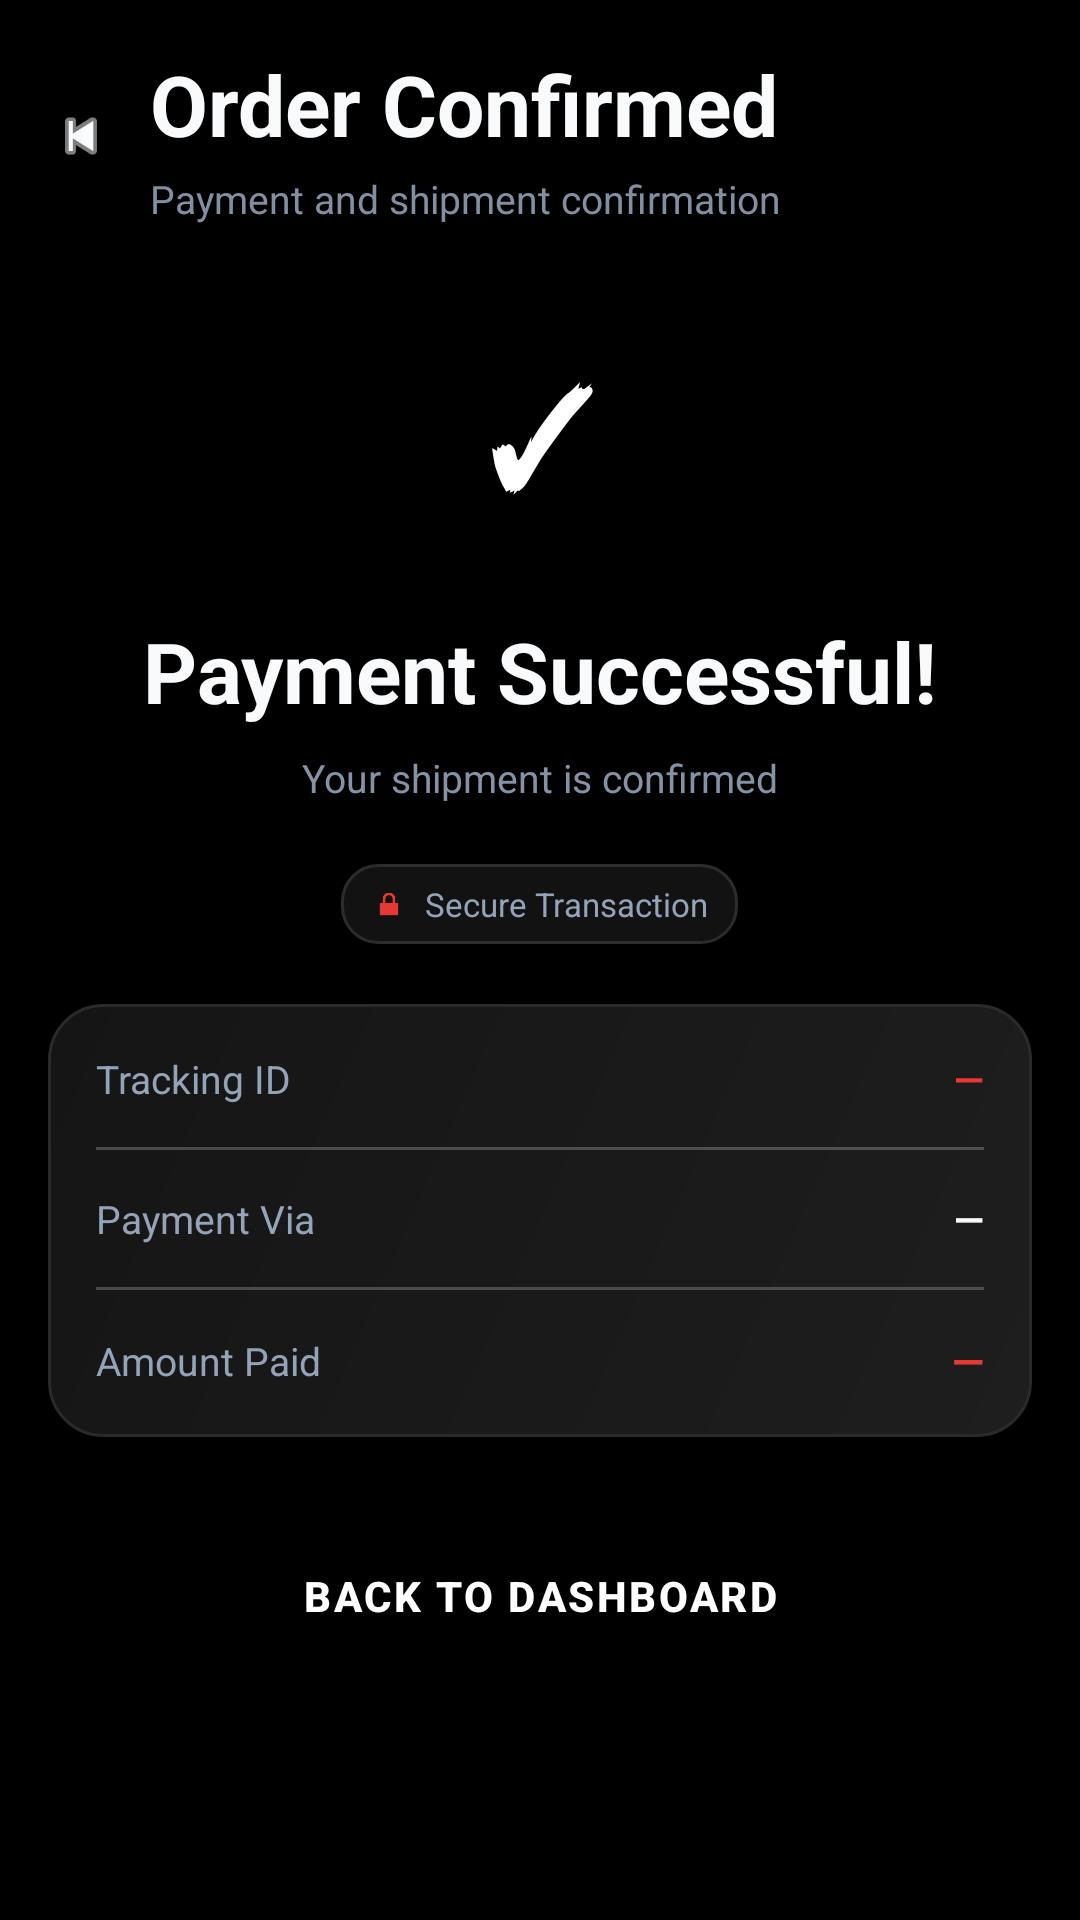

Icon click points for this 1080w x 1920h phone screenshot, format [x,y]:
previous: [81,136]
